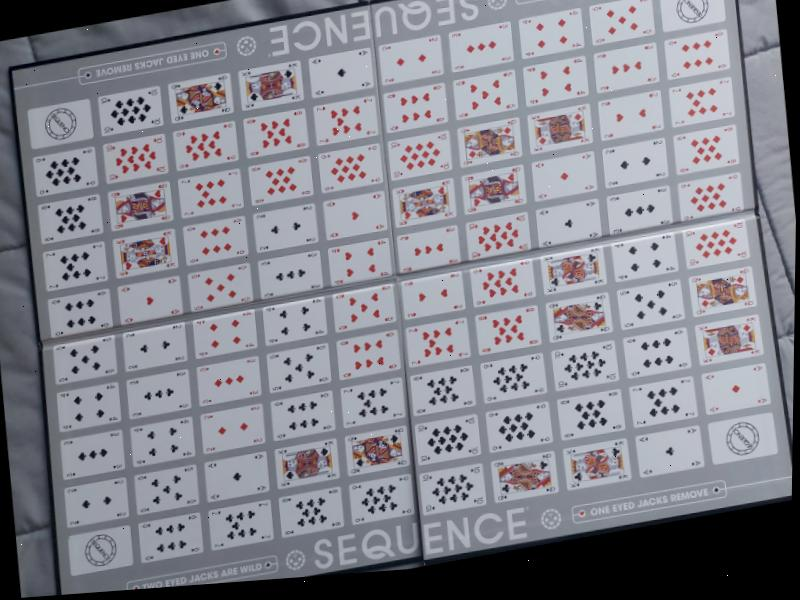Board: (1, 0, 793, 596)
